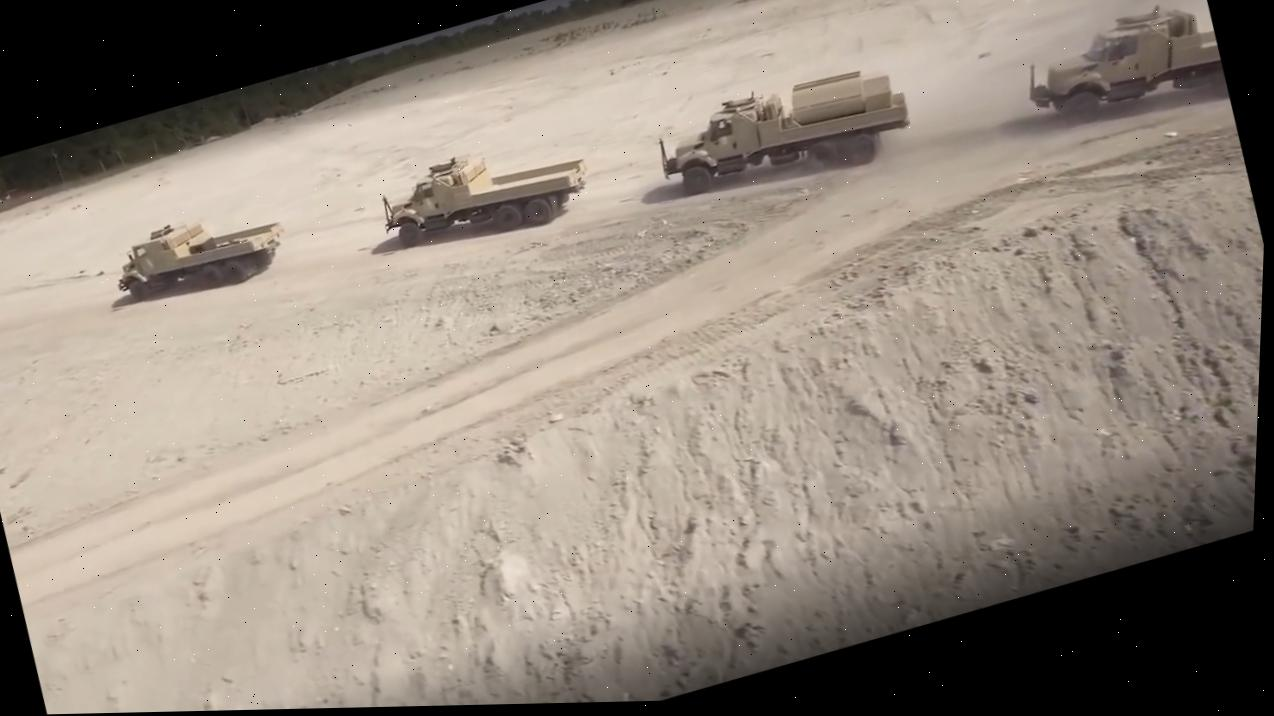truck: (646, 48, 922, 220), (365, 121, 599, 269), (1013, 0, 1230, 138), (104, 193, 295, 316)
